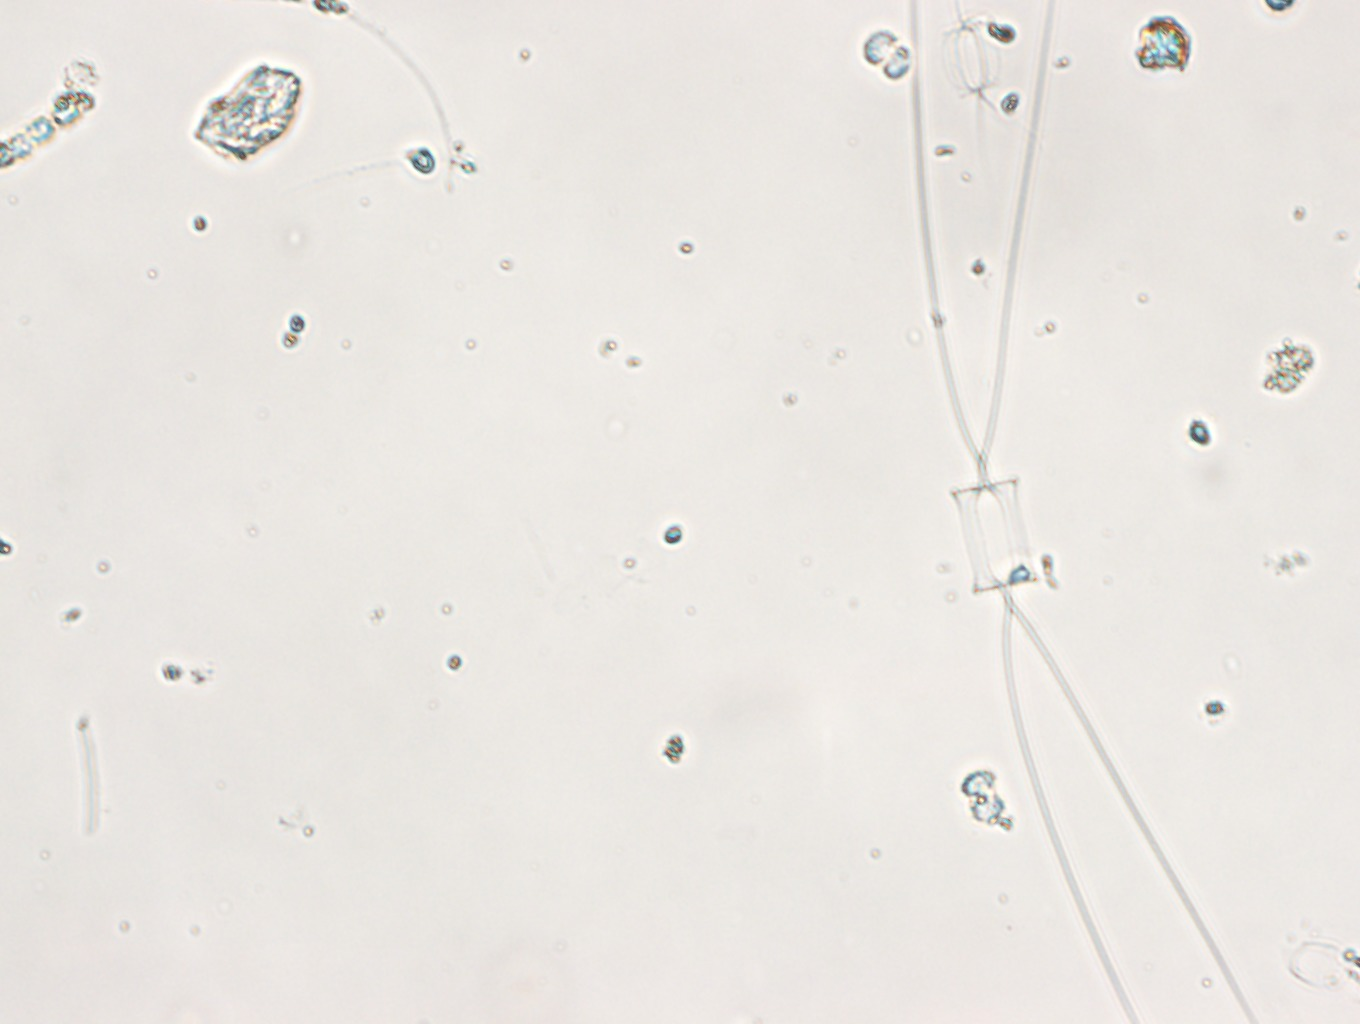chaetoceros: (907, 1, 1247, 1024)
